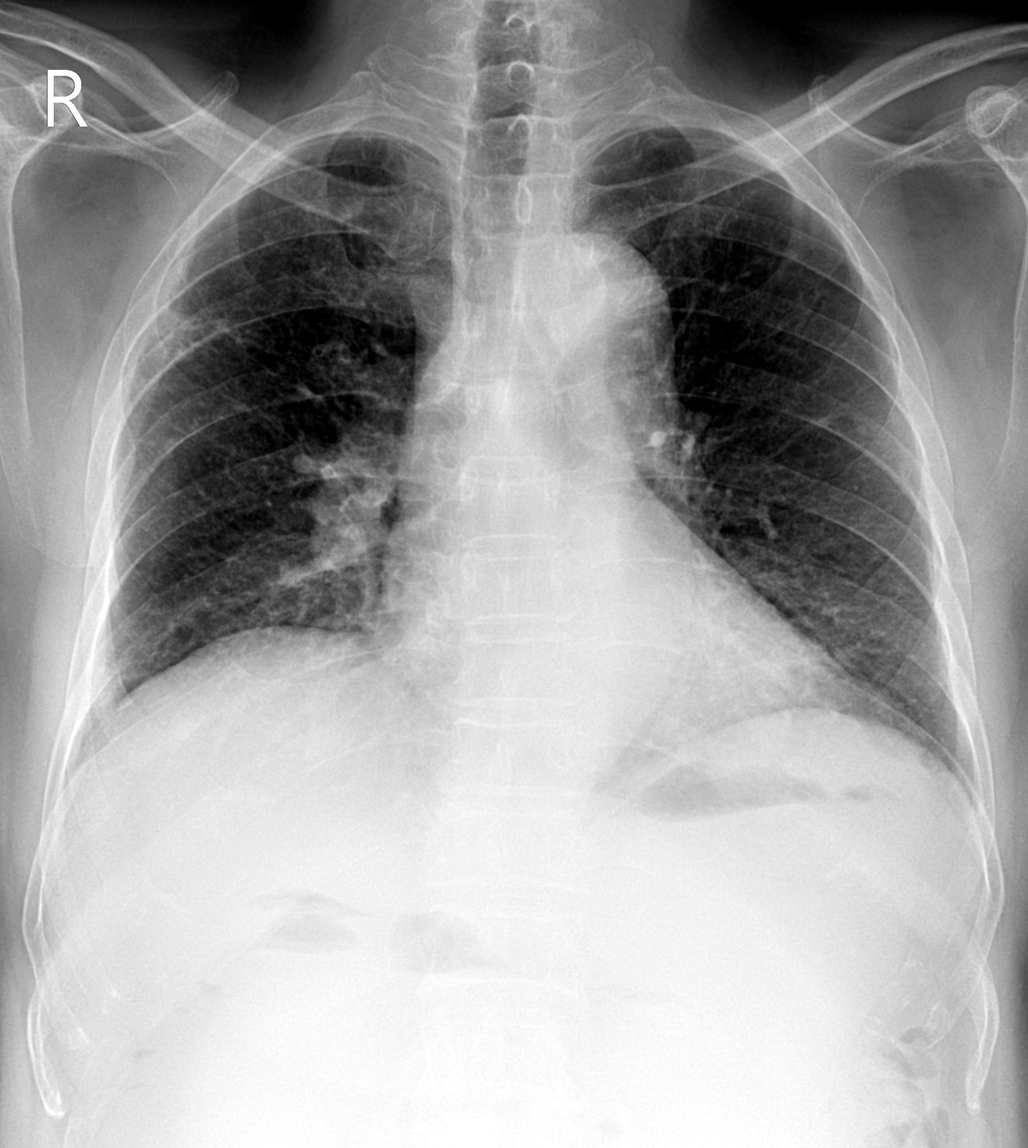Aortic enlargement: (523, 236, 676, 359)
Cardiomegaly: (365, 572, 858, 727)
Pleural thickening: (66, 643, 123, 766)
Pulmonary fibrosis: (134, 240, 301, 388), (272, 512, 442, 586)
